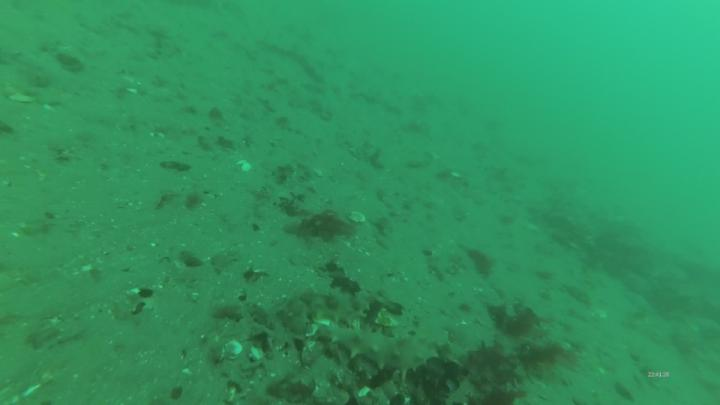echinus: (465, 246, 496, 281)
holothurian: (312, 315, 451, 381)
